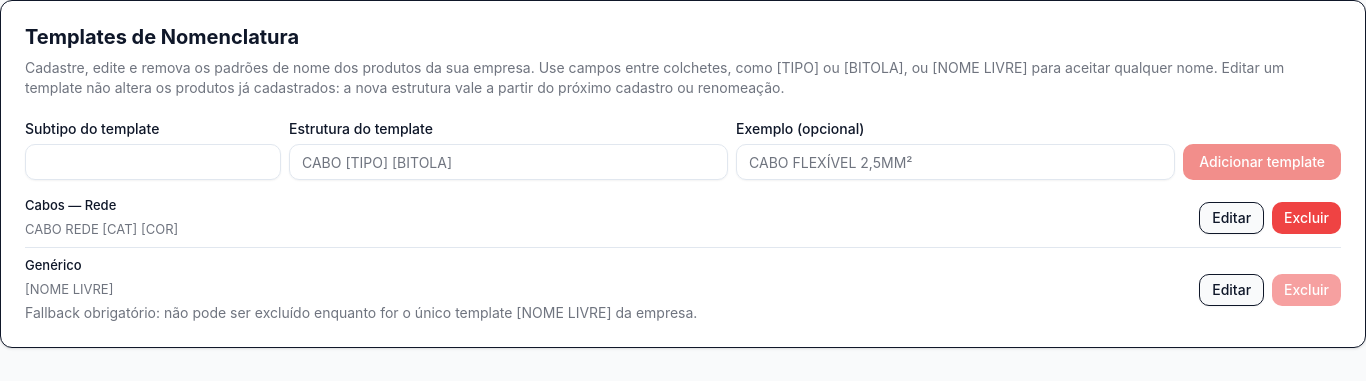
Test: TemplatesNomenclaturaSection › editar inline: PUT com subtipo/template novos, toast e GET refeito
Expected: the text "Cabos — Rede" is shown, x1=25 y1=197 x2=116 y2=213
Click the button with aria-label "Editar template Cabos — Rede": click(1232, 218) x1=1199 y1=202 x2=1264 y2=234
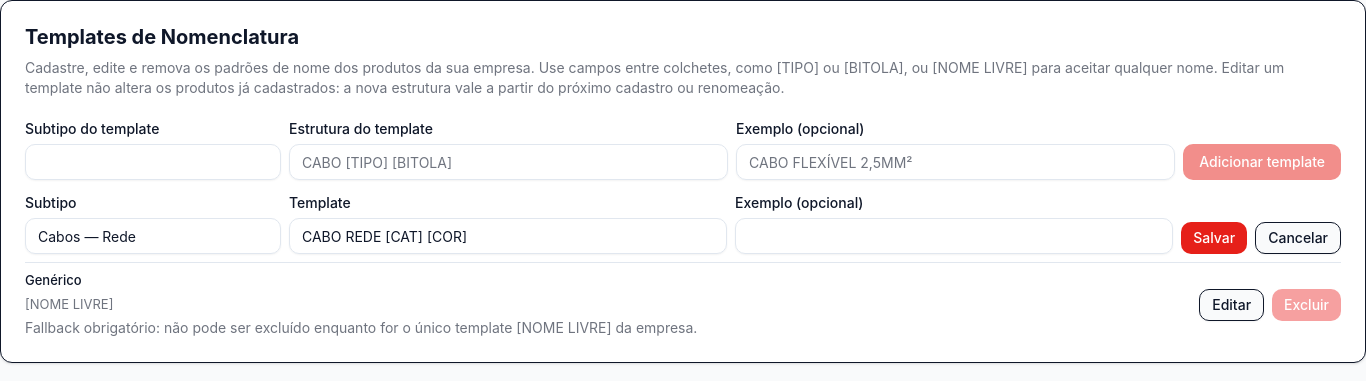
Result: the field labelled "Subtipo" holds "Cabos — Rede"
Result: the field labelled "Template" holds "CABO REDE [CAT] [COR]" at x1=289 y1=218 x2=727 y2=254
Replace the text in the field labelled "Subtipo" with "Rede": (153, 236) x1=25 y1=218 x2=281 y2=254
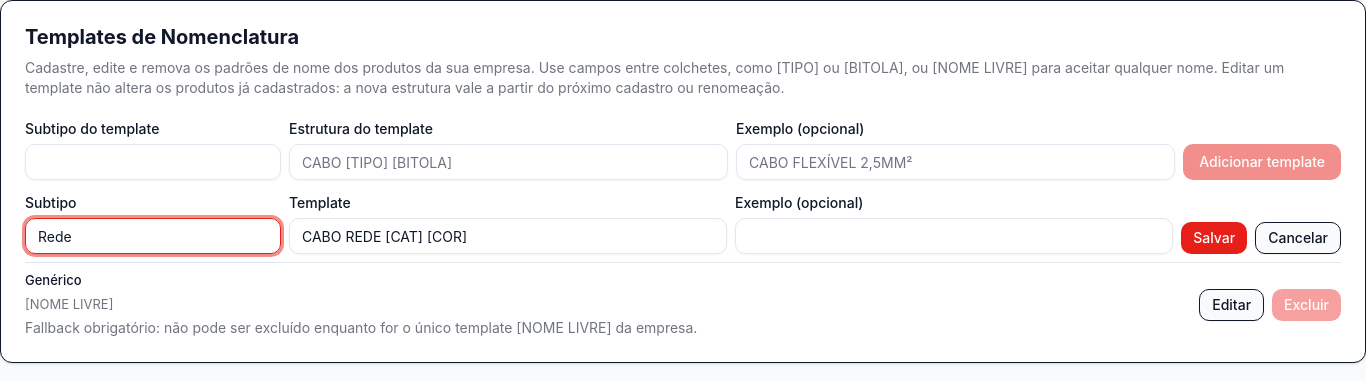
Replace the text in the field labelled "Template" with "REDE [ [CAT]": (508, 236) x1=289 y1=218 x2=727 y2=254
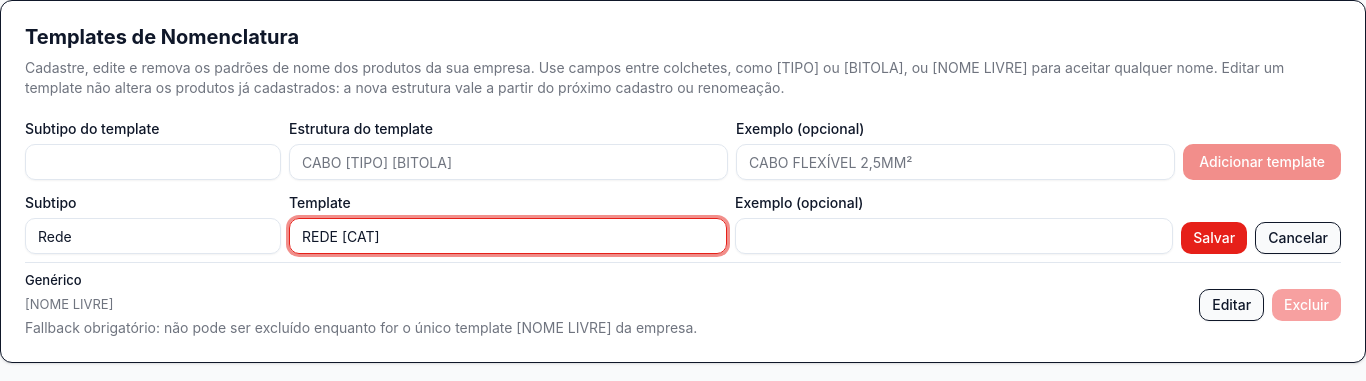
Click the button "Salvar": click(1214, 238) x1=1181 y1=222 x2=1247 y2=254
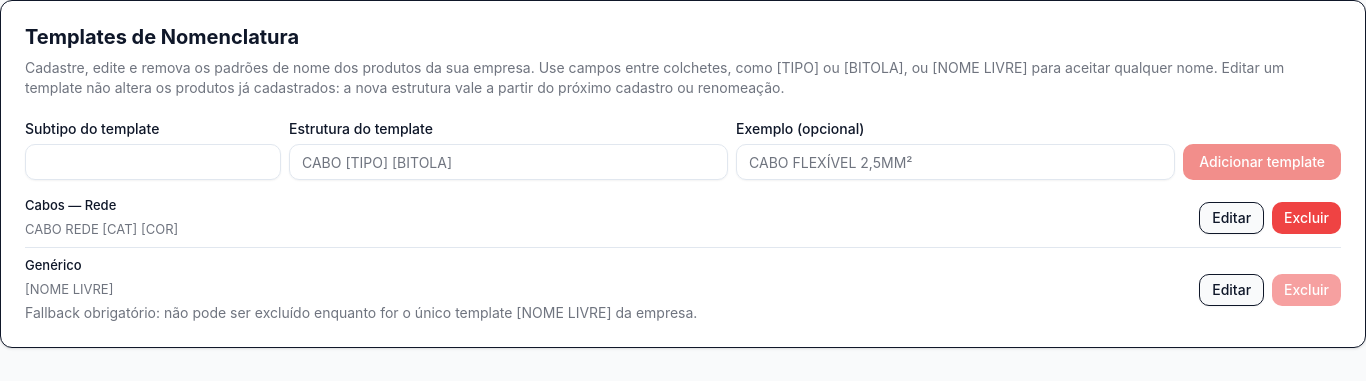
Result: the button "Salvar" is gone
